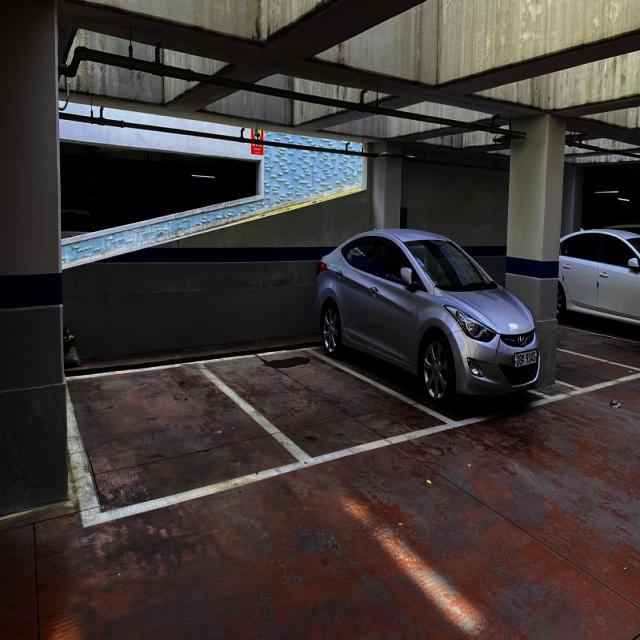empty: (60, 362, 313, 516), (218, 352, 454, 467), (545, 320, 636, 396)
occupied: (323, 236, 545, 414), (553, 225, 639, 356)
